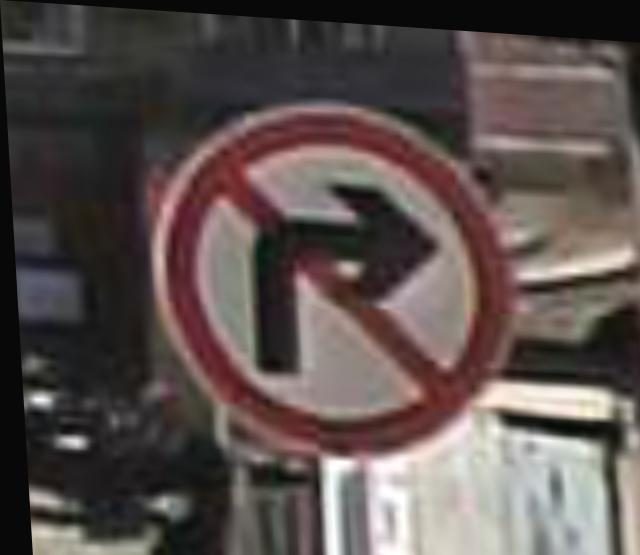not_turn_right: (135, 82, 521, 463)
